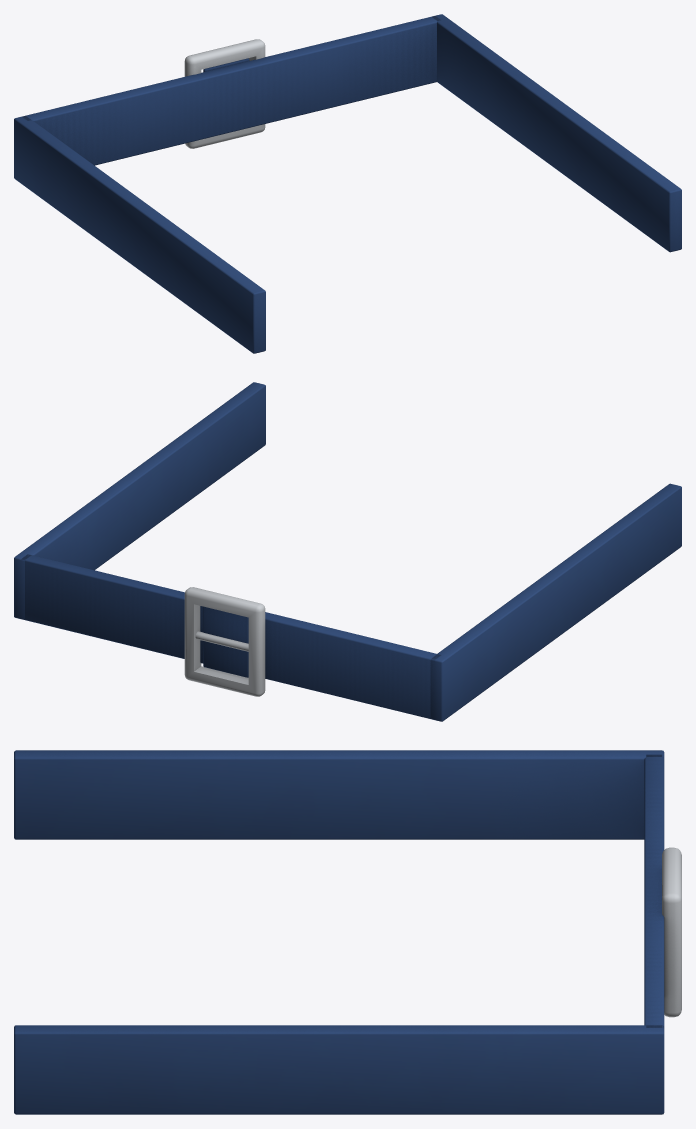
Rendered from strap.fbx.
The picture shows the model from 3 angles, top to bottom: view 1: azimuth 30°, elevation 25°; view 2: azimuth 150°, elevation 25°; view 3: azimuth 270°, elevation 25°; orthographic projection. The views are drawn at different scales.
Visible parts, largest first — view 1: strap; view 2: strap; view 3: strap.
Boxes of the visible parts, x1,y1,x2,y2 form: strap: [14, 14, 681, 353]; strap: [14, 382, 681, 721]; strap: [14, 750, 681, 1114].
Size of the model in its own units: 0.266 by 0.054 by 0.265.
